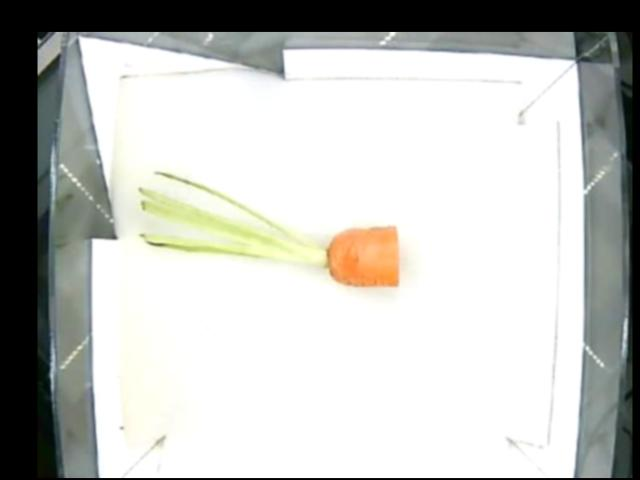Carrot: (264, 223, 401, 290)
